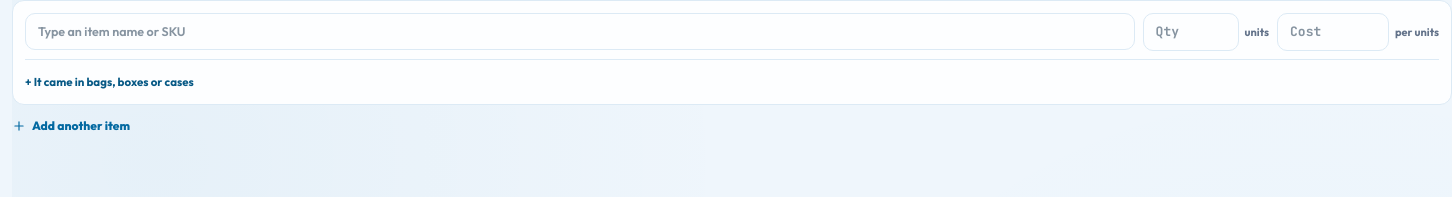
choosing an item › lists what is in stock as soon as the box is focused
The width and height of the screenshot is (1452, 197).
Focus the field with placeholder "Type an item name or SKU": (580, 32) x1=25 y1=13 x2=1135 y2=50
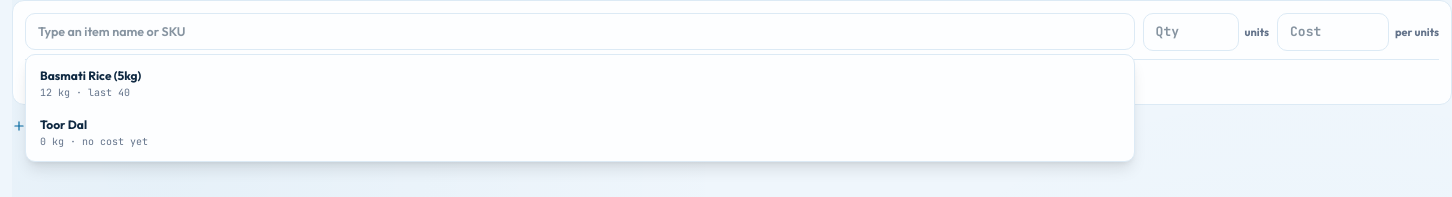
Now the text "Basmati Rice (5kg)" is shown, box x1=40 y1=68 x2=141 y2=83
Now the text "Toor Dal" is shown, box x1=40 y1=117 x2=87 y2=132
